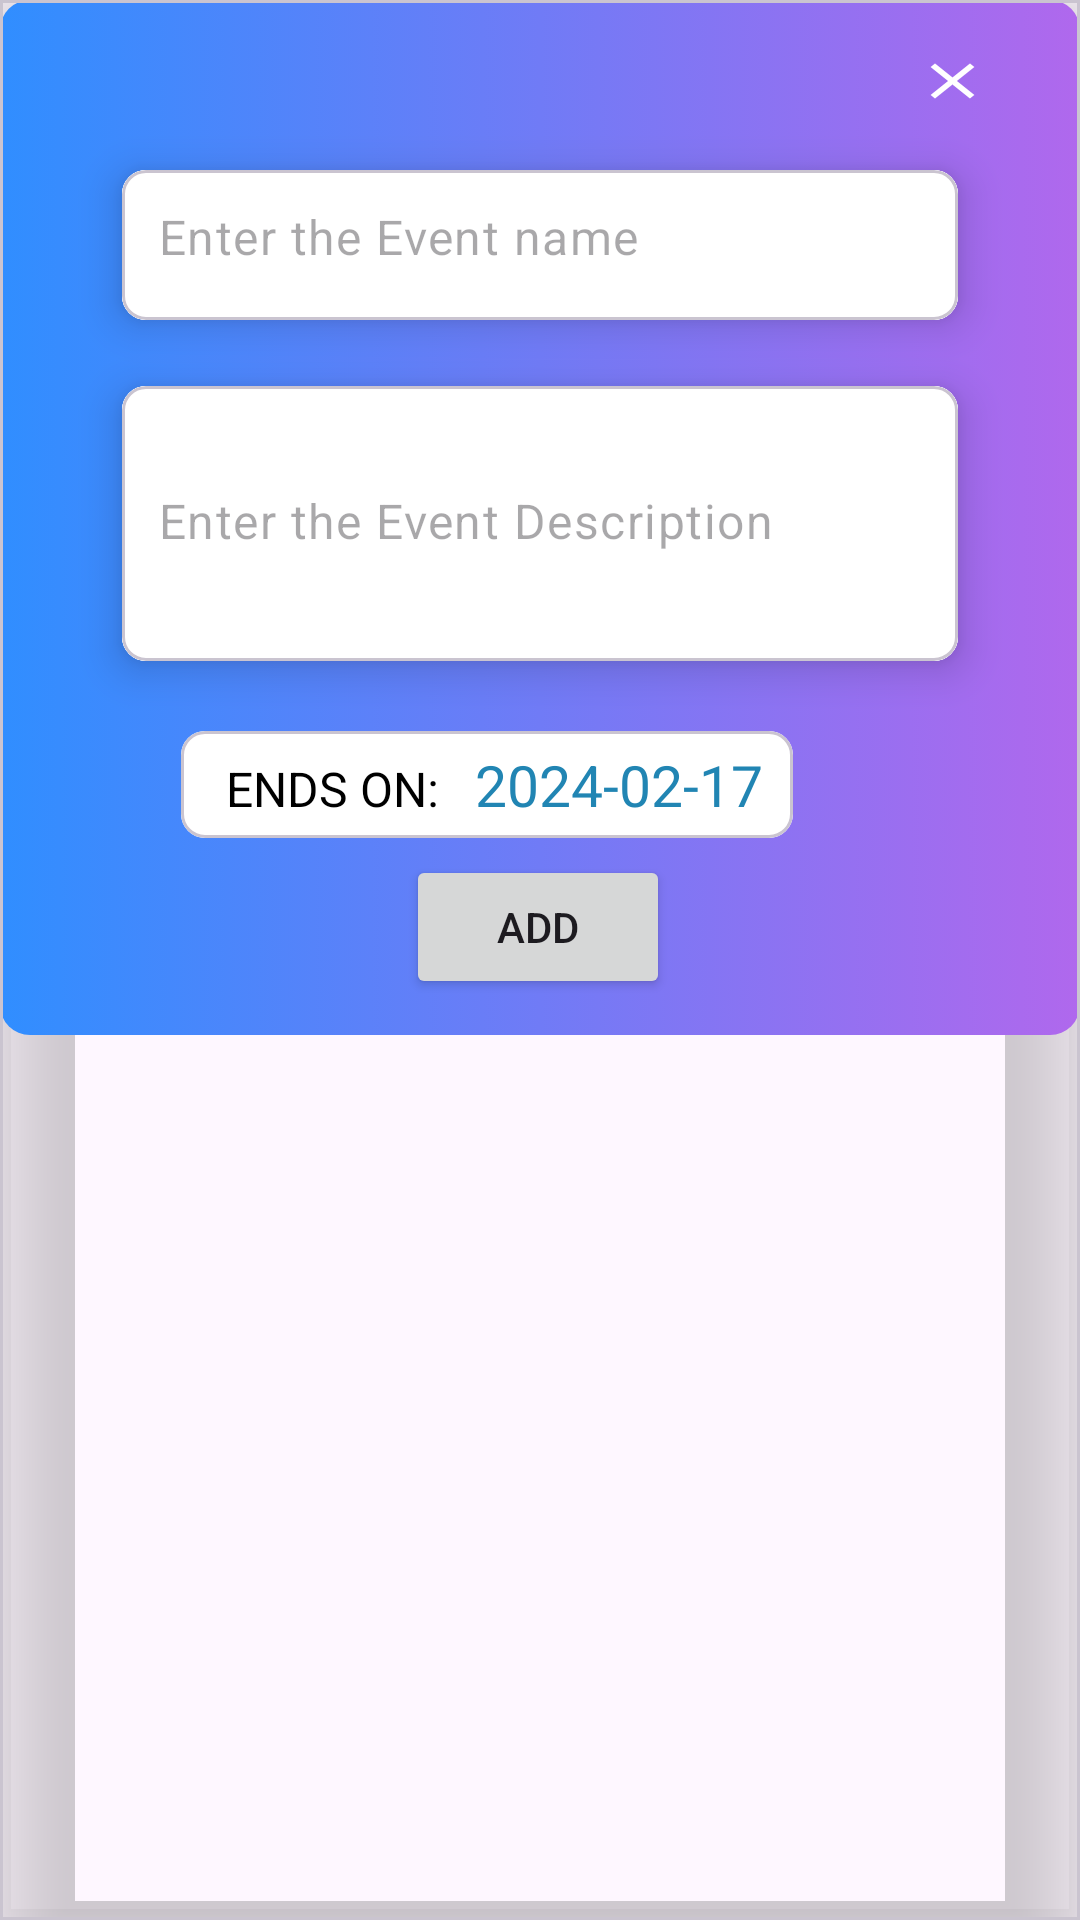

Named icons in this screenshot (1080 x 1920) and their centers, [x,y]:
close: [952,81]
